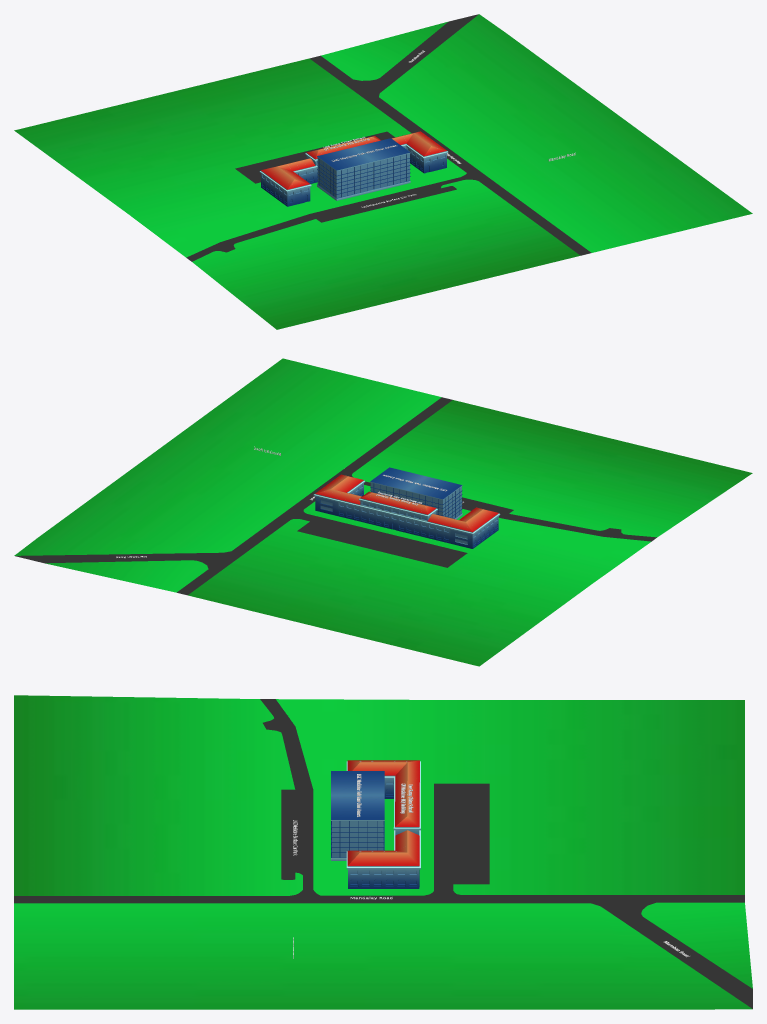
The model's file is building6.gltf.
The picture shows the model from 3 angles, top to bottom: view 1: azimuth 30°, elevation 25°; view 2: azimuth 150°, elevation 25°; view 3: azimuth 270°, elevation 25°; orthographic projection. The views are drawn at different scales.
Visible parts, largest first — view 1: building_001; view 2: building_001; view 3: building_001.
Part boxes in pixels (box(x1,y1,x2,y2)): building_001: box(14, 14, 752, 329); building_001: box(14, 358, 752, 666); building_001: box(14, 695, 752, 1009).
Bounding box in the file's own units: 104 × 6.5 × 103.
Materials: 4 (1 with a texture image).
